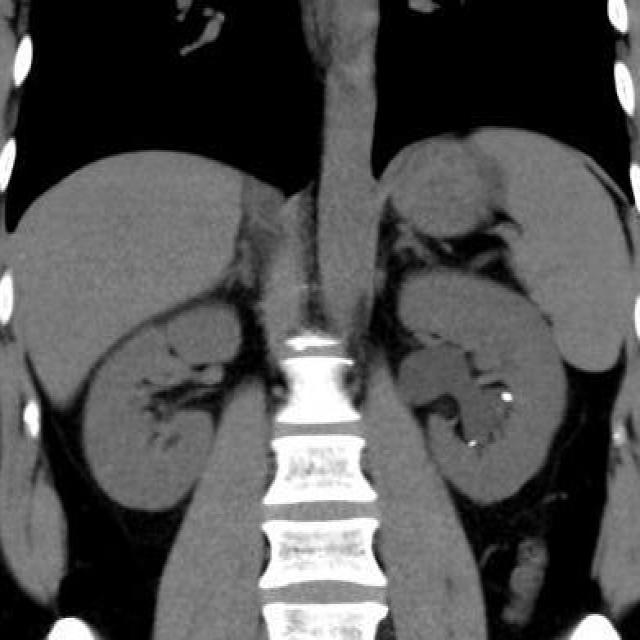Tas_Var: (499, 390, 516, 406), (466, 438, 479, 450)
